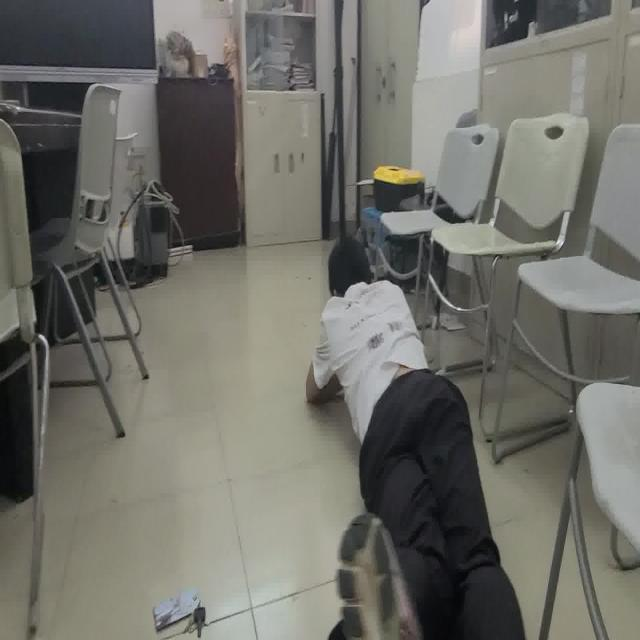Fall-Detected: (303, 232, 526, 640)
